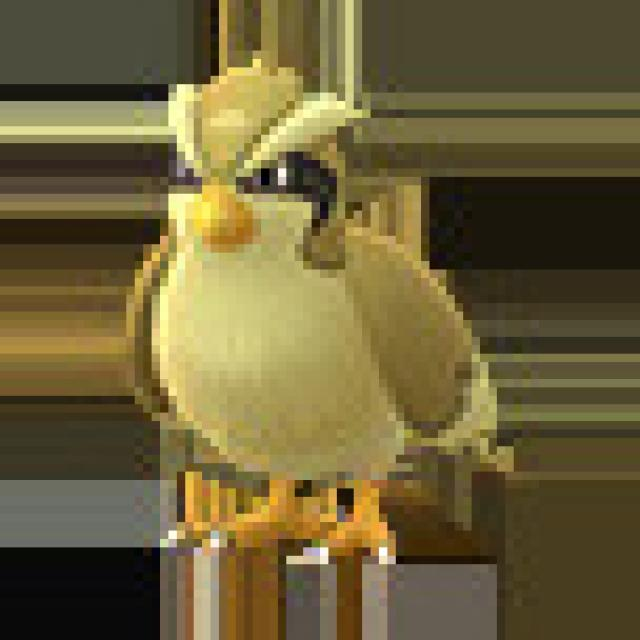Pidgey: (119, 55, 506, 583)
